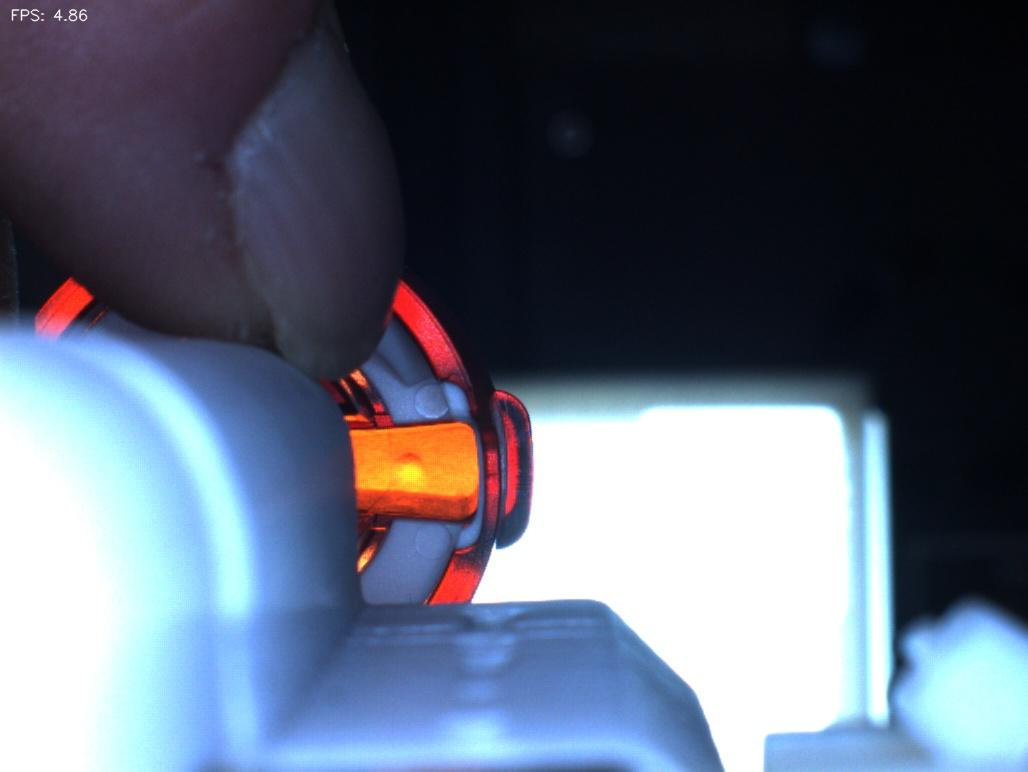Retassure: (365, 440, 444, 506)
